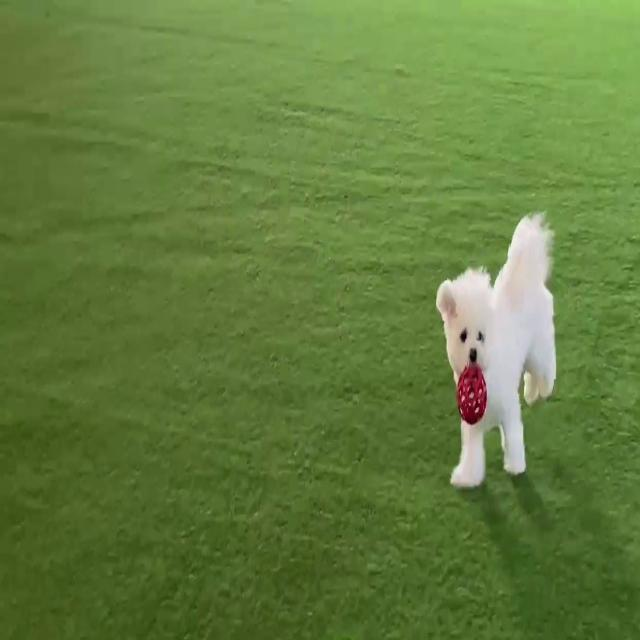Dog: (436, 209, 557, 486)
